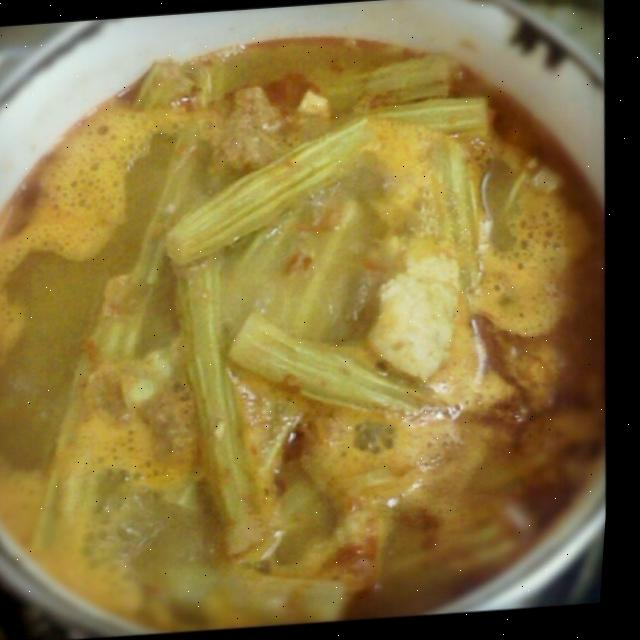汤锅炖物: (0, 11, 621, 622)
